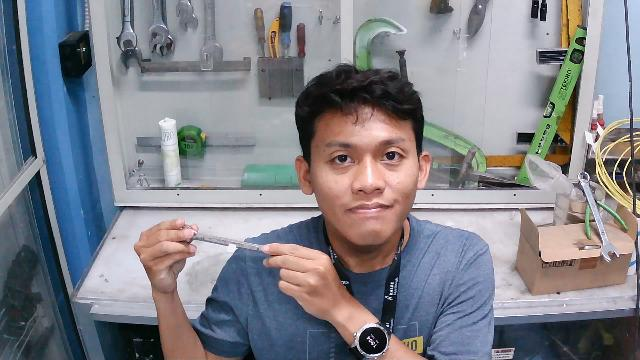kunci_pass_13: (173, 217, 290, 267)
